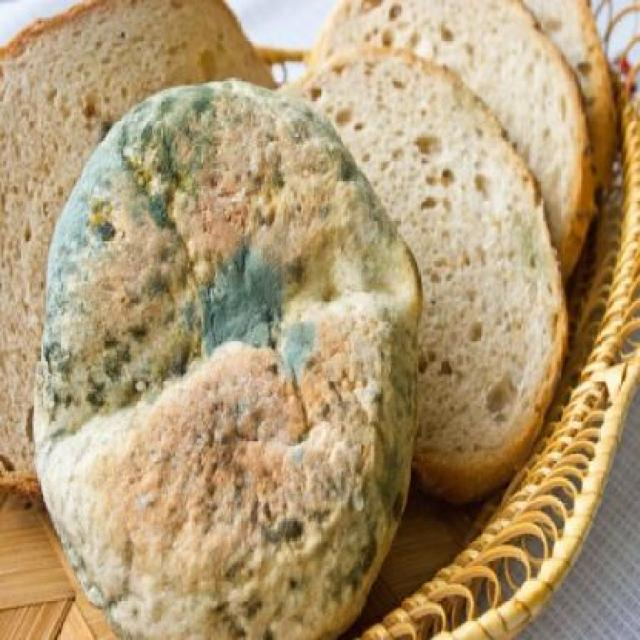mold_bread: (76, 79, 221, 227), (178, 247, 316, 383), (319, 110, 397, 269), (39, 325, 159, 424), (253, 505, 317, 559), (285, 440, 313, 466)
